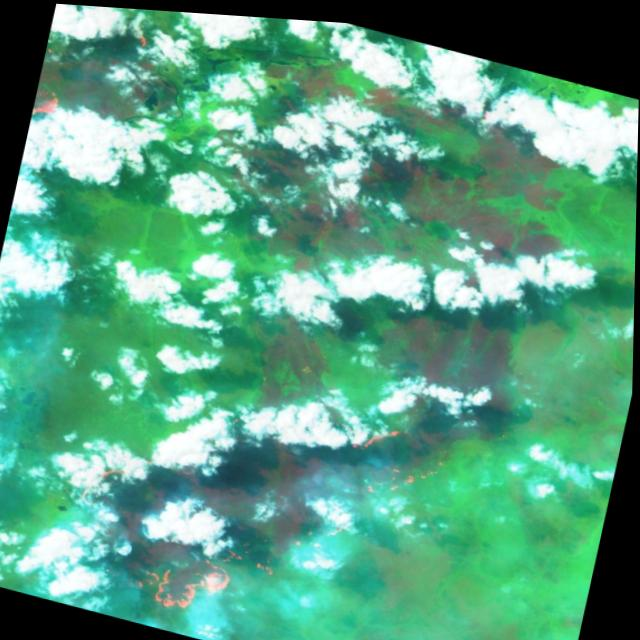fire: (131, 520, 254, 626), (29, 58, 78, 139)
